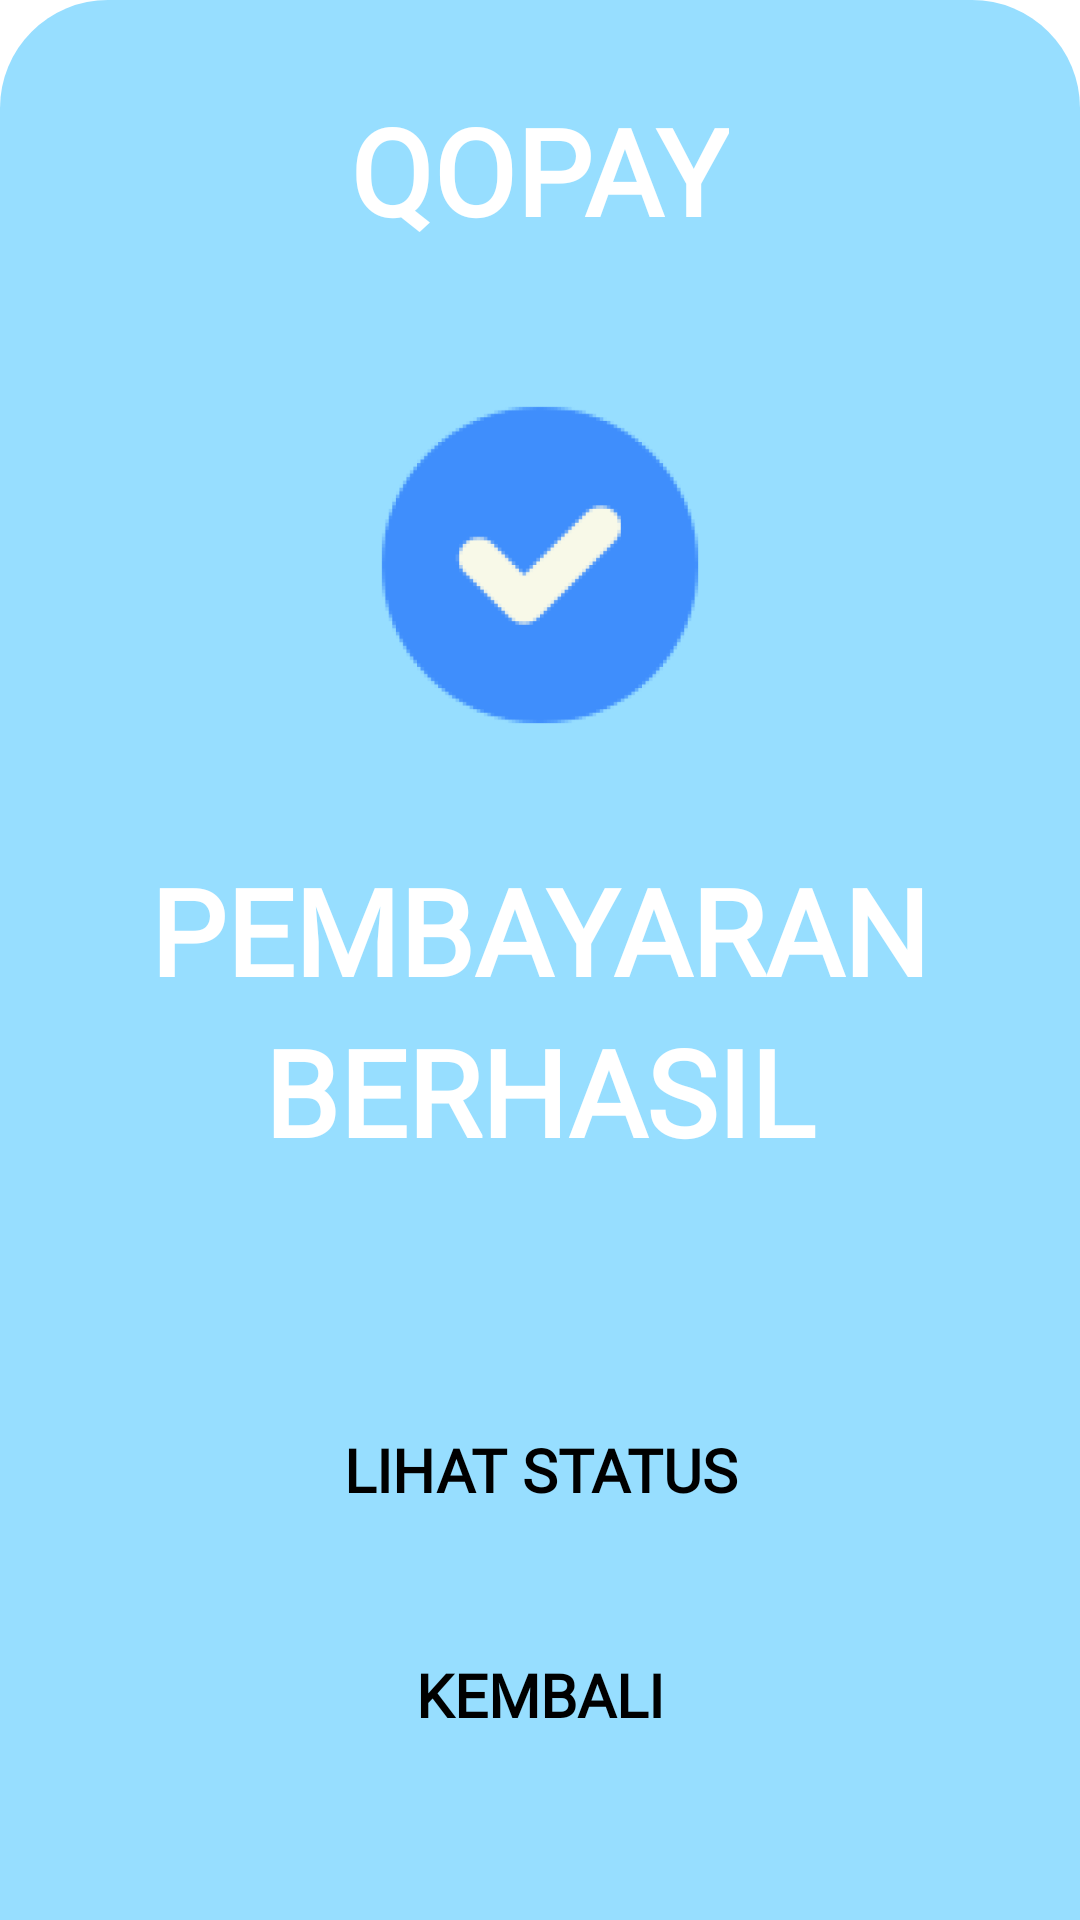

Screen size 1080*1920. Icon name, then its box in pixels as (x1, y1, x2, y2):
checklist: (382, 407, 698, 723)
